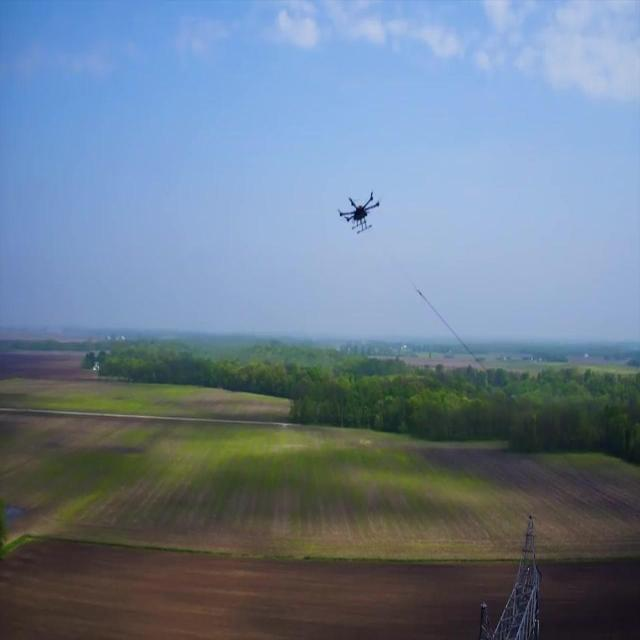drone: (335, 188, 383, 236)
